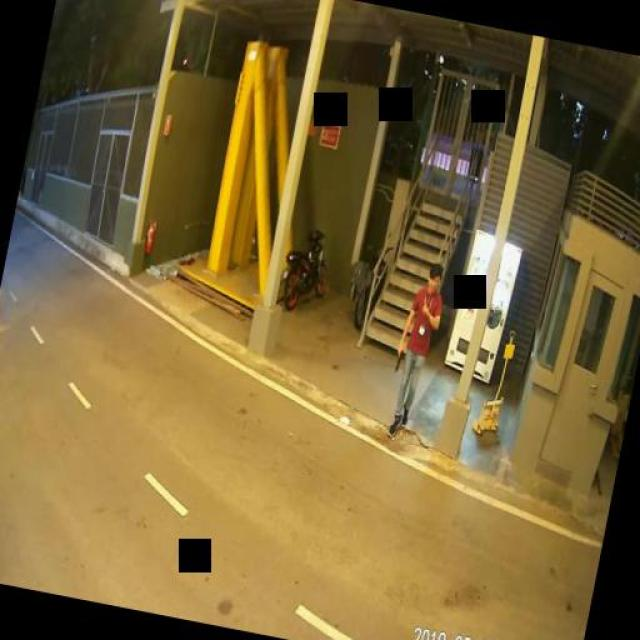gun: (391, 341, 404, 371)
